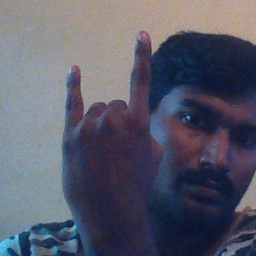V: (56, 26, 168, 213)
